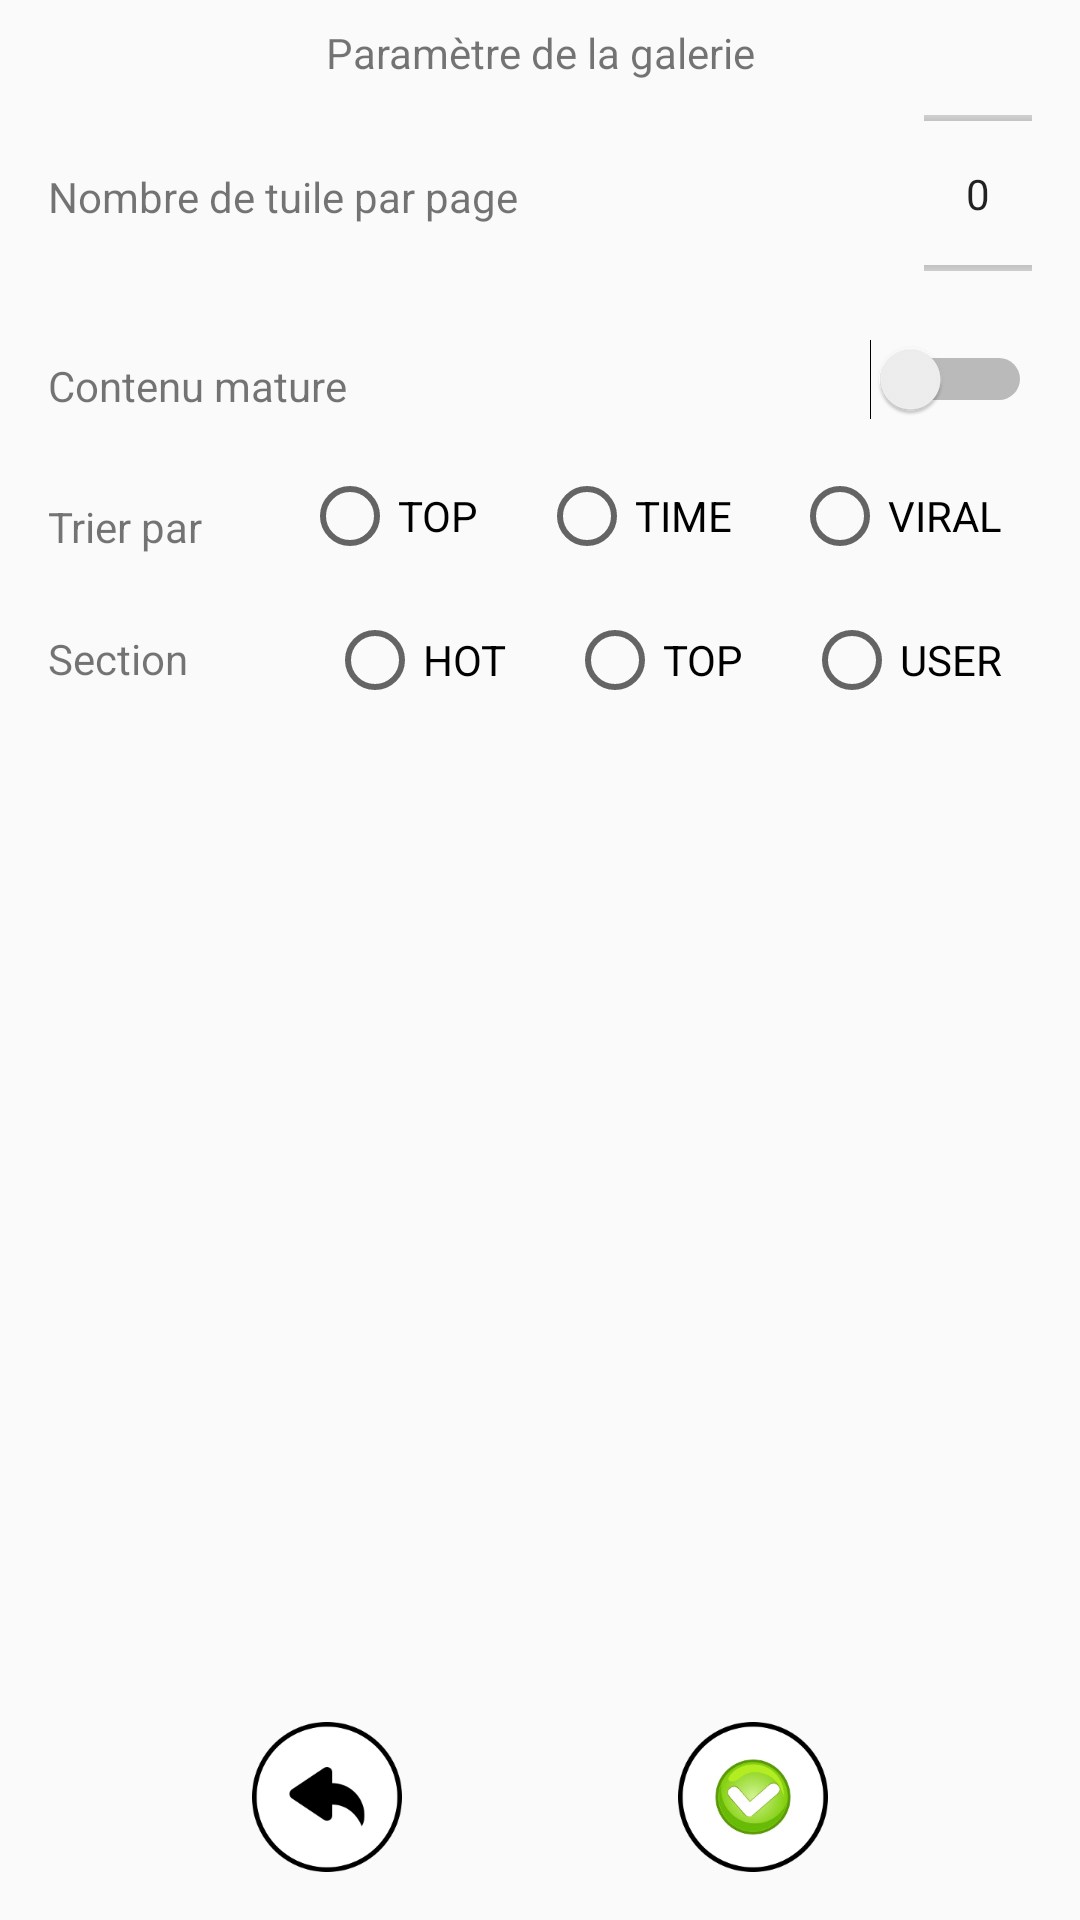

Where to tap for icons on this 1080x1920 app screen, as point (x, y):
return: point (327, 1797)
